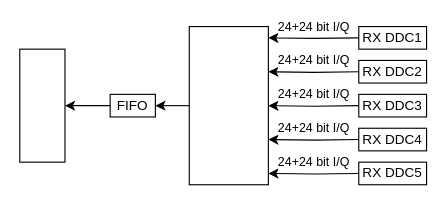
The diagram is 446 pixels wide and 205 high, and some of its shapes have lost their labels. Each missing label, with the centre of its shape:
5:1 multiplexer: point 228,105
CPU via PCIe: point 42,105
